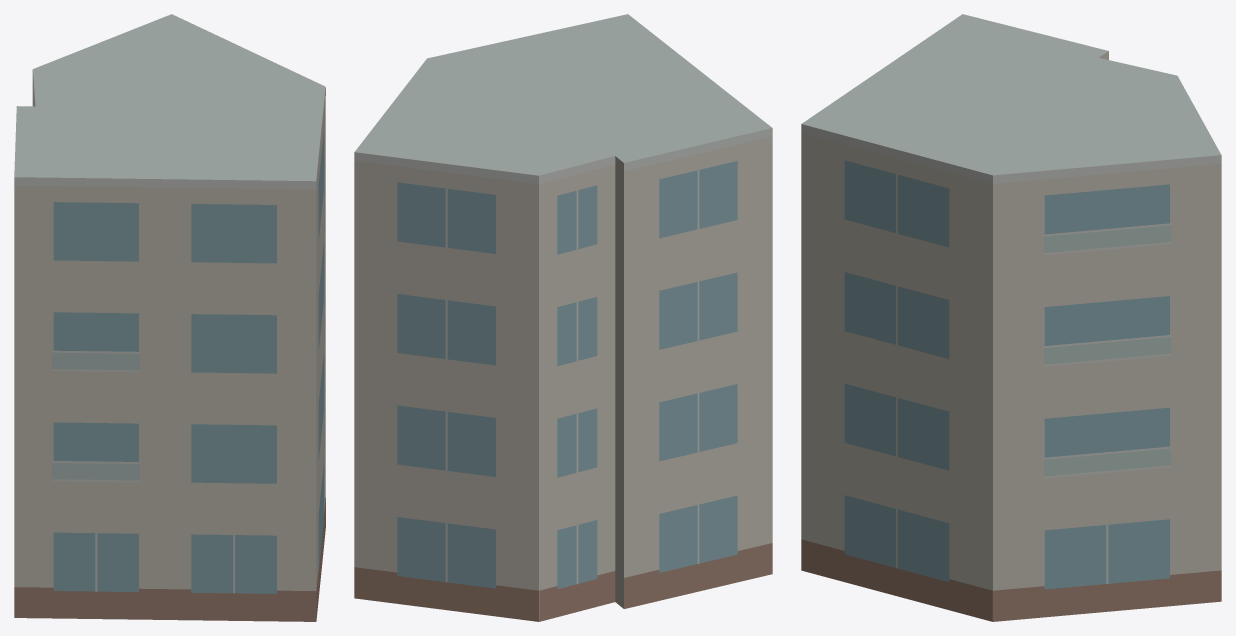
The model's file is survey-upis-32458451.glb.
The picture shows the model from 3 angles, left to right: view 1: azimuth 30°, elevation 25°; view 2: azimuth 150°, elevation 25°; view 3: azimuth 270°, elevation 25°; orthographic projection.
Parts seen in each view (by area): view 1: survey-upis-32458451.tmp; view 2: survey-upis-32458451.tmp; view 3: survey-upis-32458451.tmp.
Boxes of the visible parts, x1,y1,x2,y2 form: survey-upis-32458451.tmp: (14, 14, 325, 621); survey-upis-32458451.tmp: (354, 14, 772, 621); survey-upis-32458451.tmp: (801, 14, 1221, 621).
Size of the model in its own units: 10.01 by 12.9 by 11.01.
